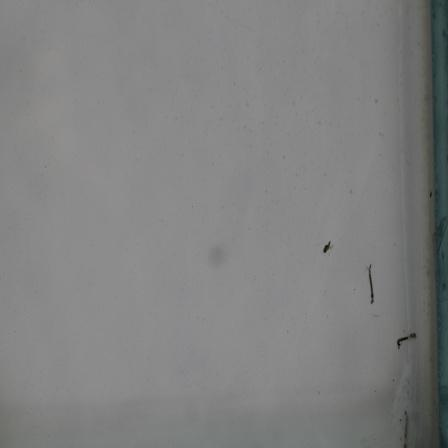Jentik-Nyamuk: (363, 260, 378, 307), (393, 328, 421, 349), (320, 238, 336, 258)
